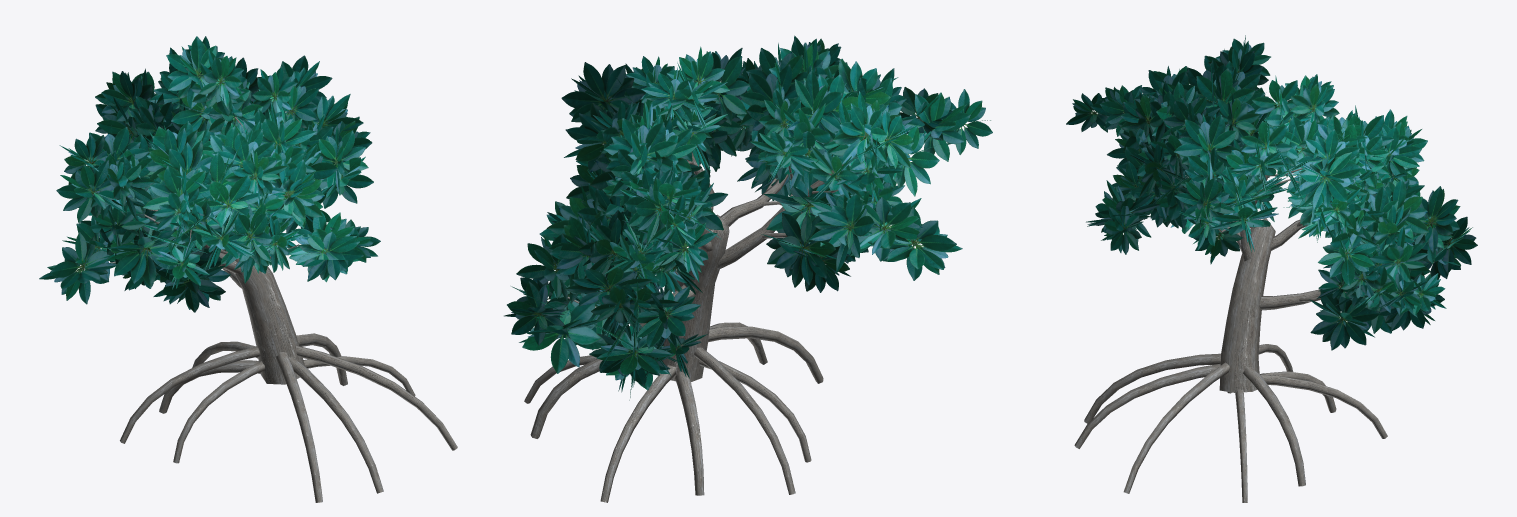
The model's file is nature-blue-mangrove_v2.glb.
The picture shows the model from 3 angles, left to right: view 1: azimuth 30°, elevation 25°; view 2: azimuth 150°, elevation 25°; view 3: azimuth 270°, elevation 25°; orthographic projection. The views are drawn at different scales.
Visible parts, largest first — view 1: nature-blue-mangrove; view 2: nature-blue-mangrove; view 3: nature-blue-mangrove.
Part boxes in pixels (<box>): nature-blue-mangrove: <box>39,36,457,502</box>; nature-blue-mangrove: <box>504,35,992,502</box>; nature-blue-mangrove: <box>1066,35,1477,502</box>.
Size of the model in its own units: 6.69 by 6.45 by 7.19.
Materials: 2 (2 with a texture image).
